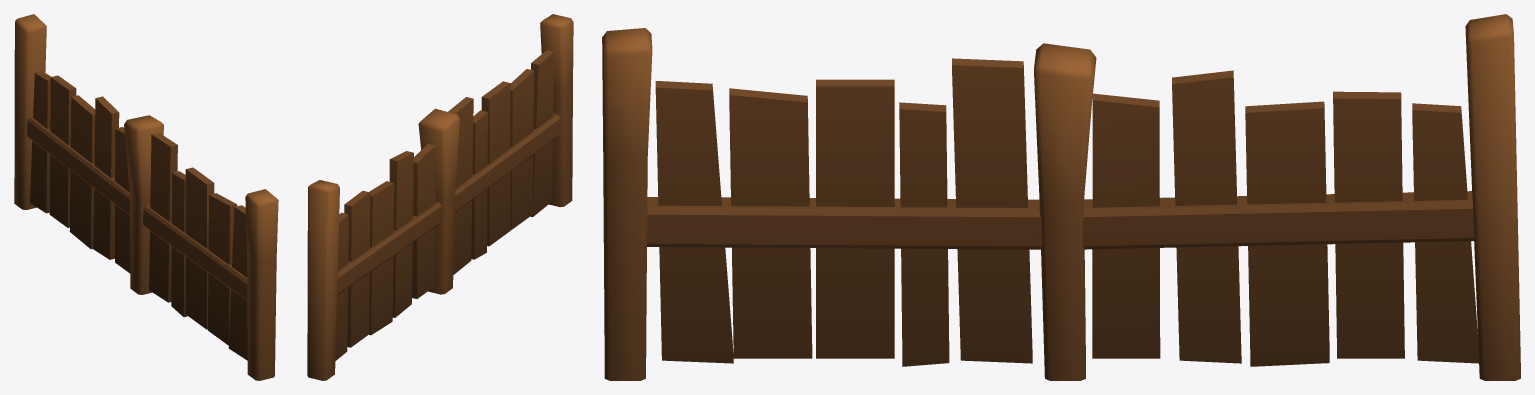
File: WallFence_1_2_C.fbx
The picture shows the model from 3 angles, left to right: view 1: azimuth 30°, elevation 25°; view 2: azimuth 150°, elevation 25°; view 3: azimuth 270°, elevation 25°; orthographic projection. The views are drawn at different scales.
Visible parts, largest first — view 1: WallFence_1_2_C; view 2: WallFence_1_2_C; view 3: WallFence_1_2_C.
Part boxes in pixels (x1=…): WallFence_1_2_C: x1=14, y1=14, x2=278, y2=380; WallFence_1_2_C: x1=307, y1=14, x2=573, y2=380; WallFence_1_2_C: x1=602, y1=14, x2=1520, y2=380.
Size of the model in its own units: 14.3 by 87.88 by 209.
